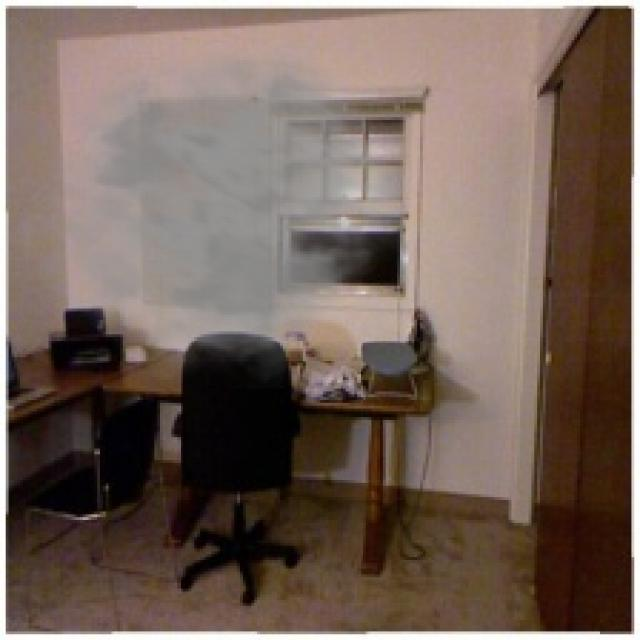smoke: (11, 40, 408, 389)
